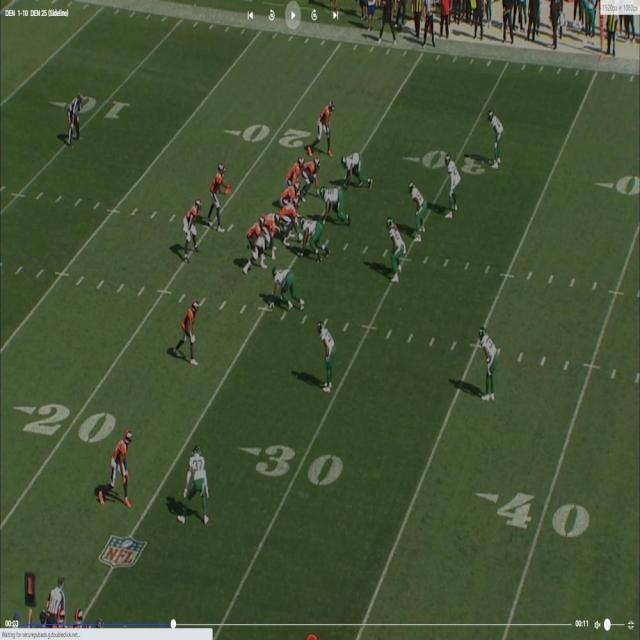center: (280, 202, 300, 238)
db: (190, 447, 209, 524), (316, 318, 334, 392), (480, 330, 495, 400), (490, 109, 506, 159)
lb: (390, 224, 410, 282), (408, 180, 426, 240), (446, 155, 461, 214)
qb: (210, 162, 226, 222)
skill: (106, 427, 131, 498), (178, 301, 199, 363), (184, 200, 203, 262), (318, 98, 336, 146), (308, 156, 319, 197)
